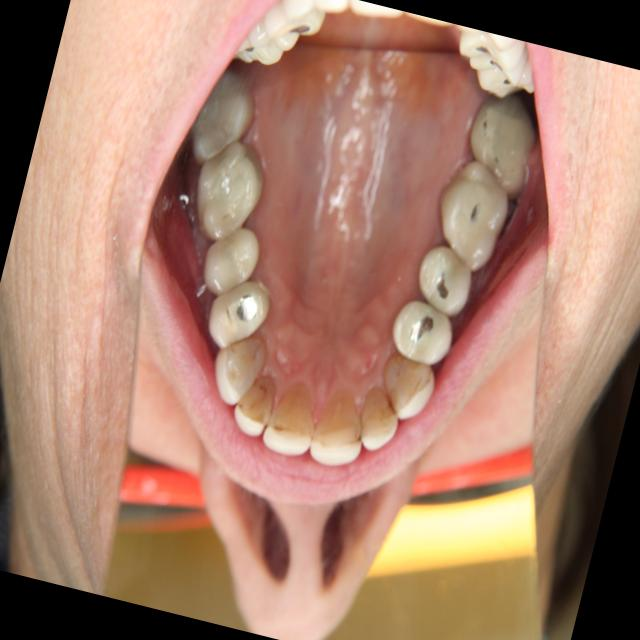tooth: (418, 147, 525, 281), (451, 74, 555, 197), (177, 132, 278, 253), (174, 61, 268, 175), (296, 371, 378, 479), (376, 283, 469, 376), (193, 269, 282, 364), (364, 332, 448, 432), (405, 229, 486, 323), (255, 365, 328, 469), (192, 217, 270, 306), (202, 322, 275, 416), (220, 361, 286, 452), (347, 371, 412, 459)
